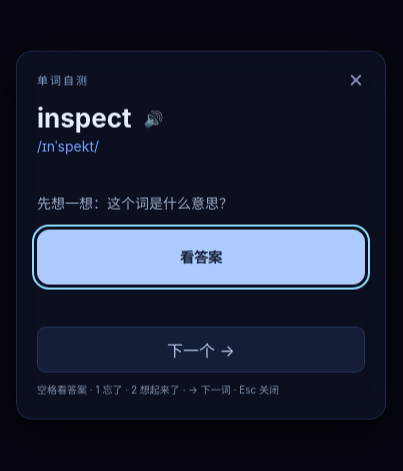
Test case: 词卡导航与学习闭环 › 自测先隐藏释义，看答案后评分保存并切到下一题
This screenshot has width=403, height=471.
Expected: the text "We inspect the house." is not shown
Click the button "看答案" at (201, 257), box [37,230,365,285]
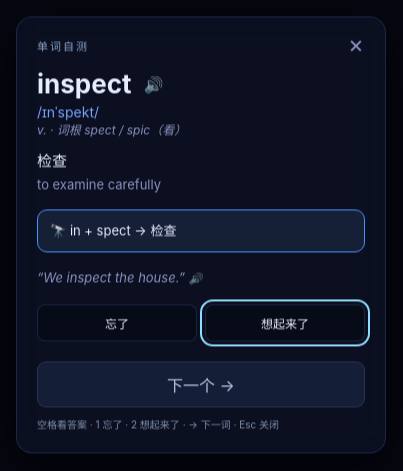
Expected: the text with class "def" reads "检查", [37,151,67,170]
Click the button "想起来了" at (285, 323), box [205,304,365,341]
Wait 600 ms
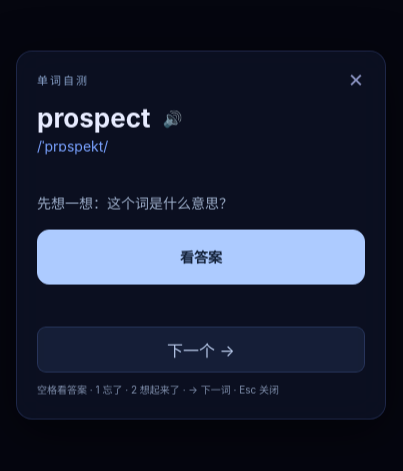
Expected: the text with class "def" is gone
